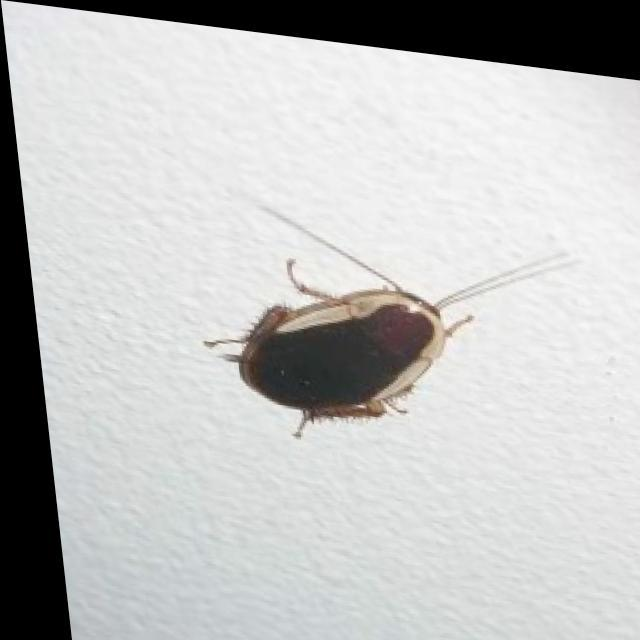cockroach: (235, 287, 447, 416)
